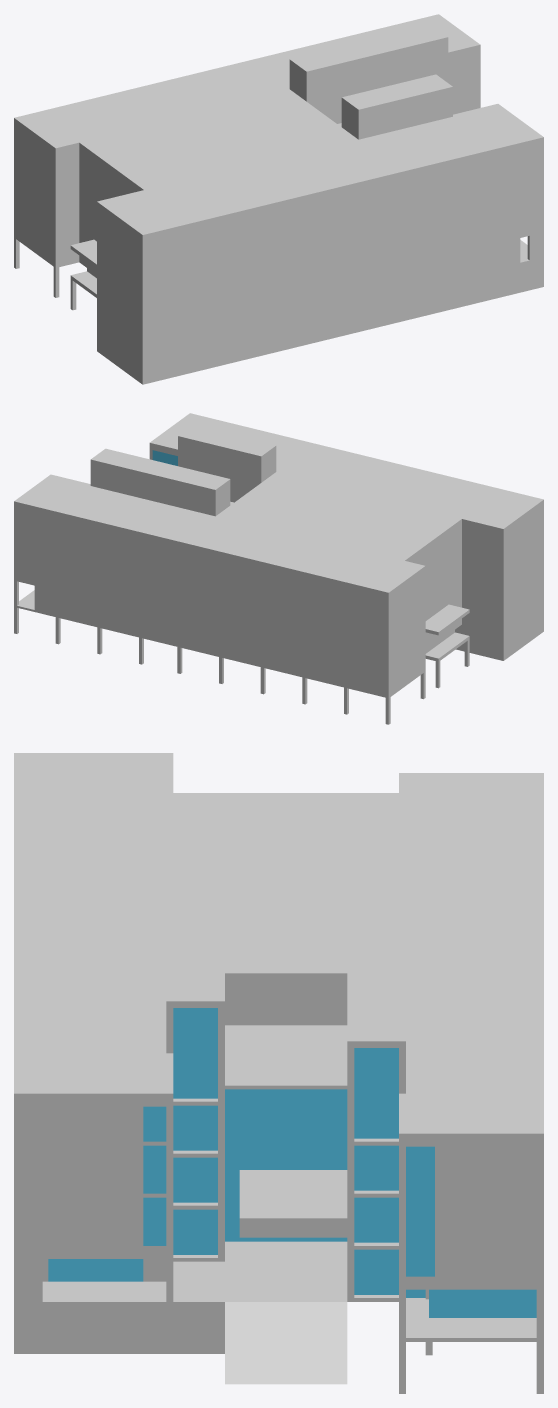
Rendered from NuRi.glb.
The picture shows the model from 3 angles, top to bottom: view 1: azimuth 30°, elevation 25°; view 2: azimuth 150°, elevation 25°; view 3: azimuth 270°, elevation 25°; orthographic projection. The views are drawn at different scales.
Parts seen in each view (by area): view 1: Main Grey; view 2: Main Grey; view 3: Main Grey, Window.
Part boxes in pixels (x1,y1,x2,y2): Main Grey: (14,14,543,384); Main Grey: (14,413,543,724); Main Grey: (14,753,543,1393); Window: (48,1008,536,1317).
Bounding box in the file's own units: 62.7 × 24 × 36.9.
